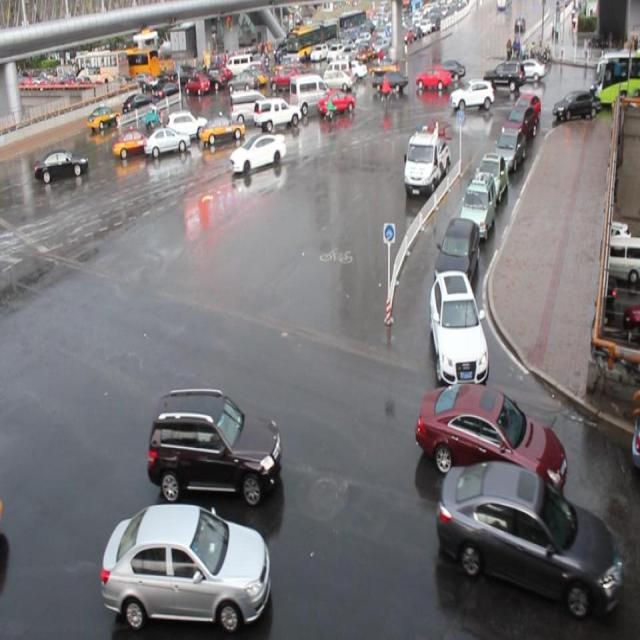bus: (403, 131, 451, 198)
car: (437, 459, 620, 616), (101, 502, 272, 630), (414, 380, 566, 495), (149, 388, 283, 502), (430, 268, 488, 384), (436, 213, 481, 292), (460, 173, 498, 242), (230, 132, 286, 173), (473, 150, 509, 208), (36, 146, 89, 184), (252, 96, 302, 133), (199, 112, 247, 150), (144, 126, 192, 160), (166, 108, 209, 144), (495, 124, 527, 170), (507, 106, 539, 150), (450, 79, 493, 111), (113, 129, 153, 158), (318, 90, 355, 117), (517, 94, 543, 132)
truck: (288, 75, 332, 115), (228, 90, 271, 128)
